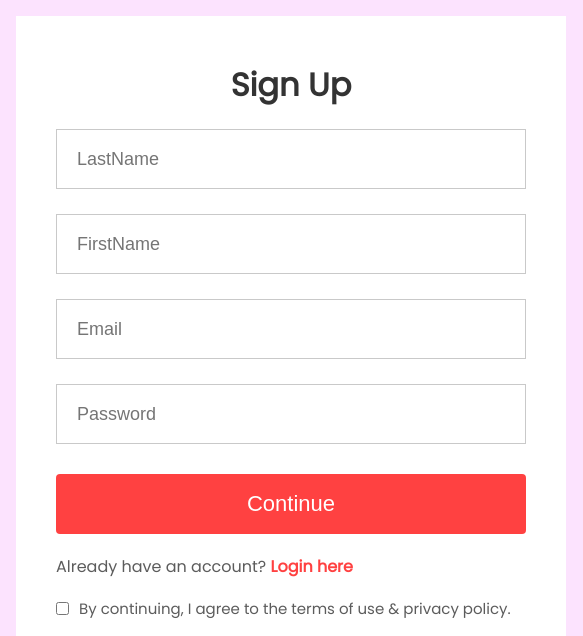
Test: displays error message on fetch failure
The width and height of the screenshot is (583, 636).
Click the button "Continue" at {"x": 291, "y": 504}, box [56,474,526,534]
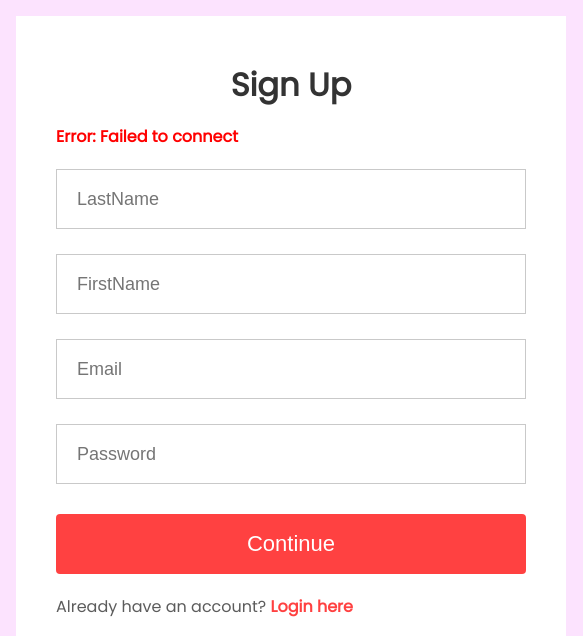
Expected: the text "Error: Failed to connect" is shown, [56,125,238,148]
